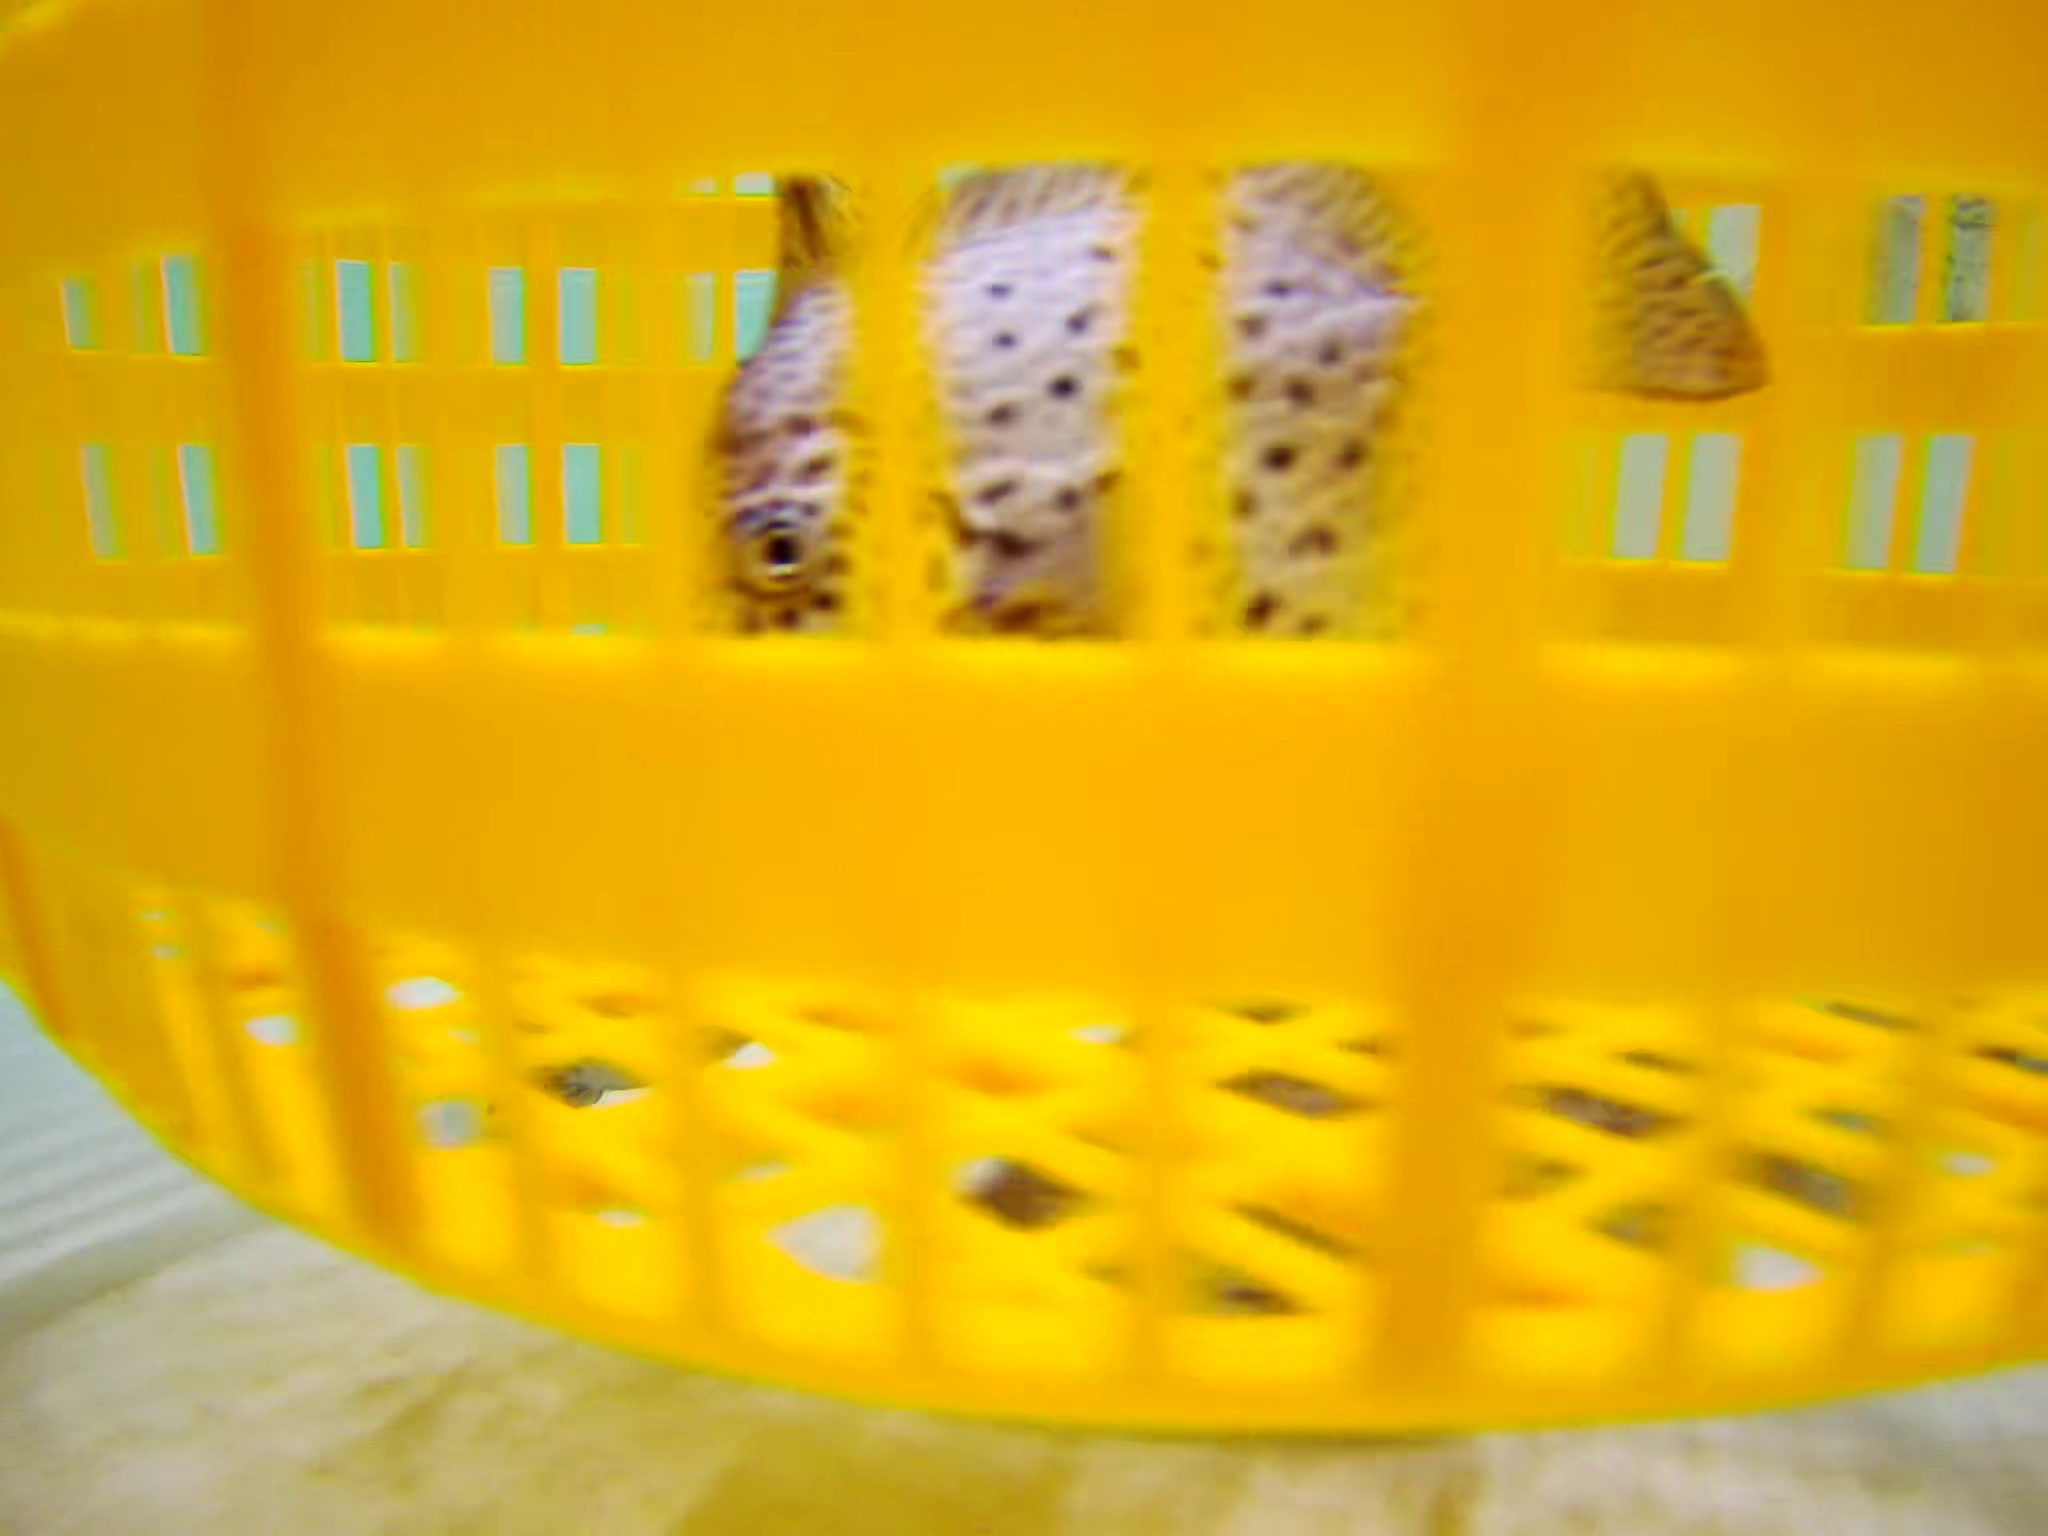fish: (666, 148, 1779, 815)
